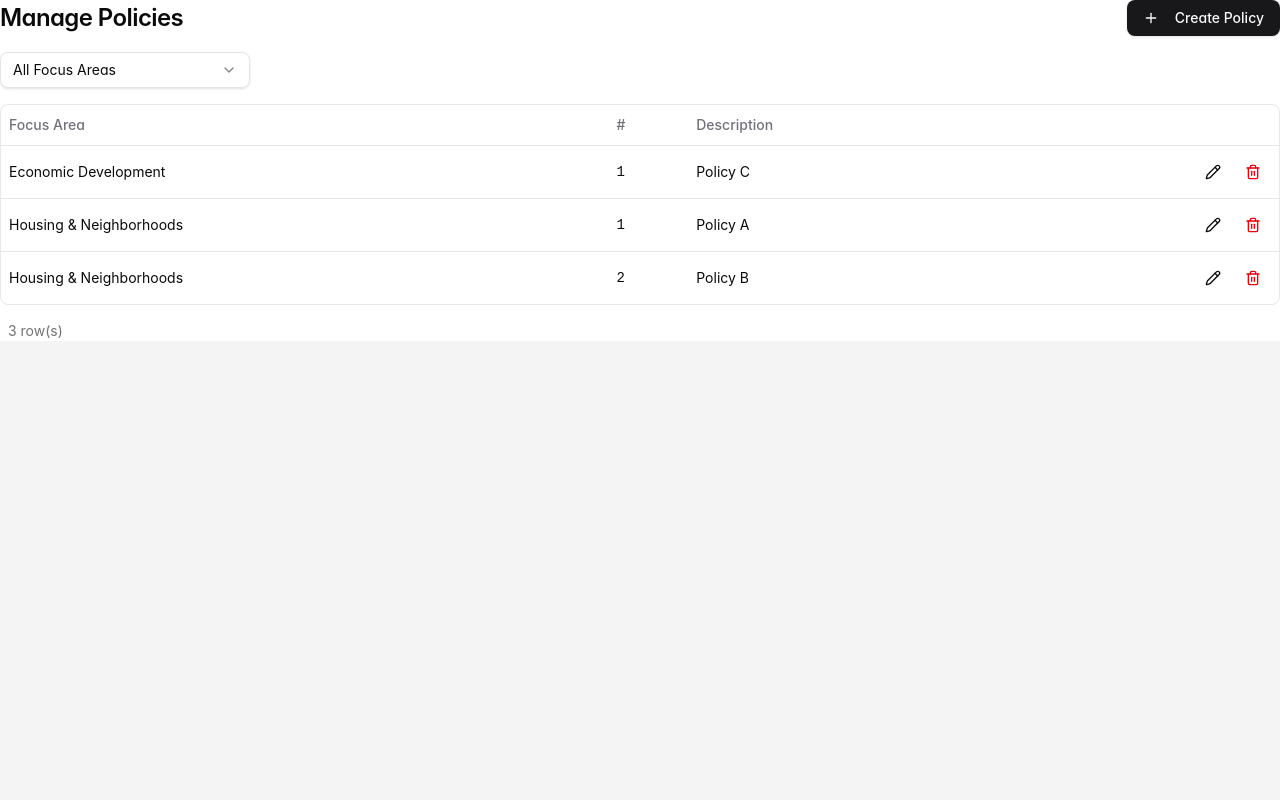
Test: ManagePolicies › as Admin › opens create form when Create button is clicked
This screenshot has width=1280, height=800.
Click the button "Create Policy": click(1203, 18) 1127,0 -> 1279,36
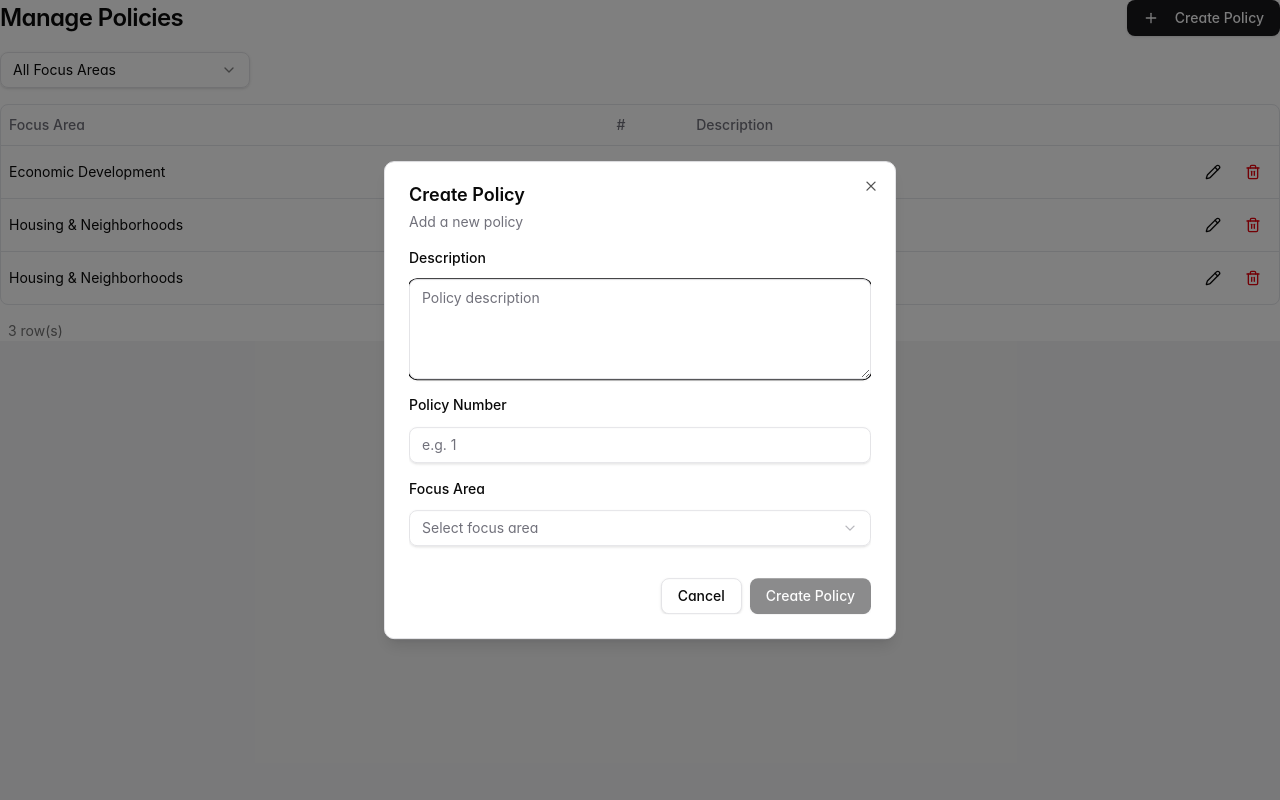
Result: the text "Add a new policy" is shown at 409,213 -> 523,230
